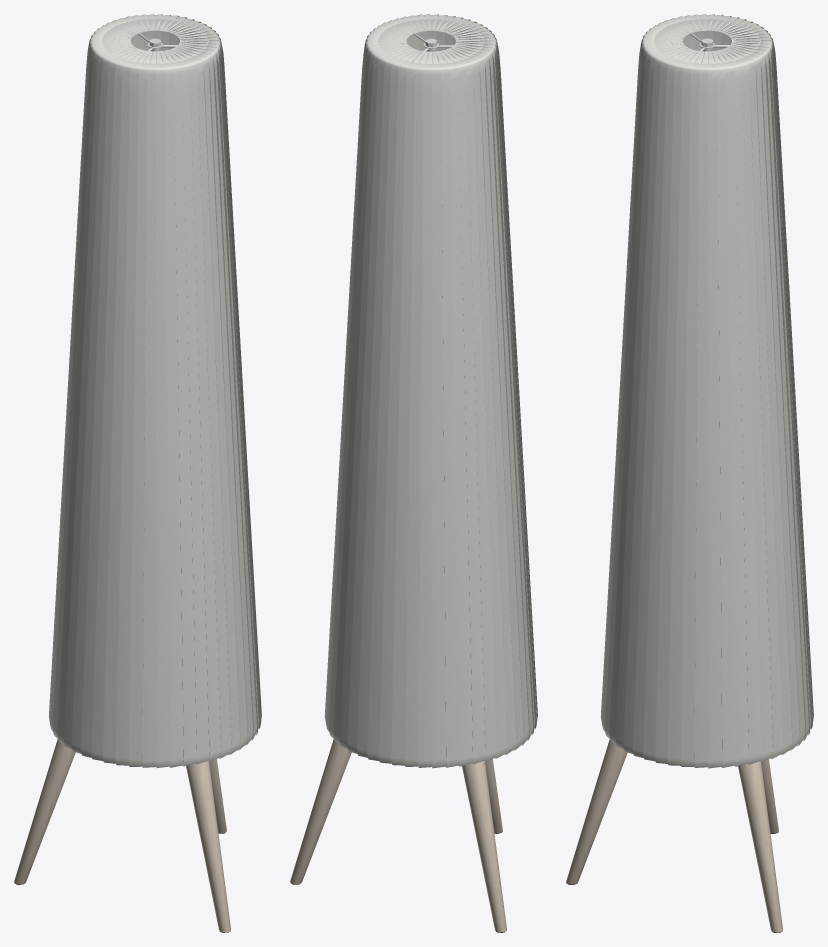
Rendered from oekensand_floor_lamp_beech_white.glb.
3 renders of one model, left to right at view 1: azimuth 30°, elevation 25°; view 2: azimuth 150°, elevation 25°; view 3: azimuth 270°, elevation 25°, orthographic.
Visible parts, largest first — view 1: Cylinder004, Cylinder005, Cylinder008, Cylinder007; view 2: Cylinder004, Cylinder008, Cylinder007, Cylinder005; view 3: Cylinder004, Cylinder007, Cylinder005, Cylinder008.
Boxes of the visible parts, left/top/right/bottom form: Cylinder004: left=49, top=14, right=261, bottom=768; Cylinder005: left=186, top=761, right=230, bottom=932; Cylinder008: left=14, top=739, right=75, bottom=884; Cylinder007: left=209, top=759, right=226, bottom=833; Cylinder004: left=324, top=14, right=537, bottom=768; Cylinder008: left=462, top=761, right=506, bottom=932; Cylinder007: left=290, top=739, right=351, bottom=884; Cylinder005: left=485, top=759, right=502, bottom=833; Cylinder004: left=600, top=14, right=813, bottom=768; Cylinder007: left=738, top=761, right=782, bottom=932; Cylinder005: left=566, top=739, right=627, bottom=884; Cylinder008: left=761, top=759, right=778, bottom=833.
Bounding box in the file's own units: 0.4089 × 1.54 × 0.4114.
Materials: 1 (1 with a texture image).
